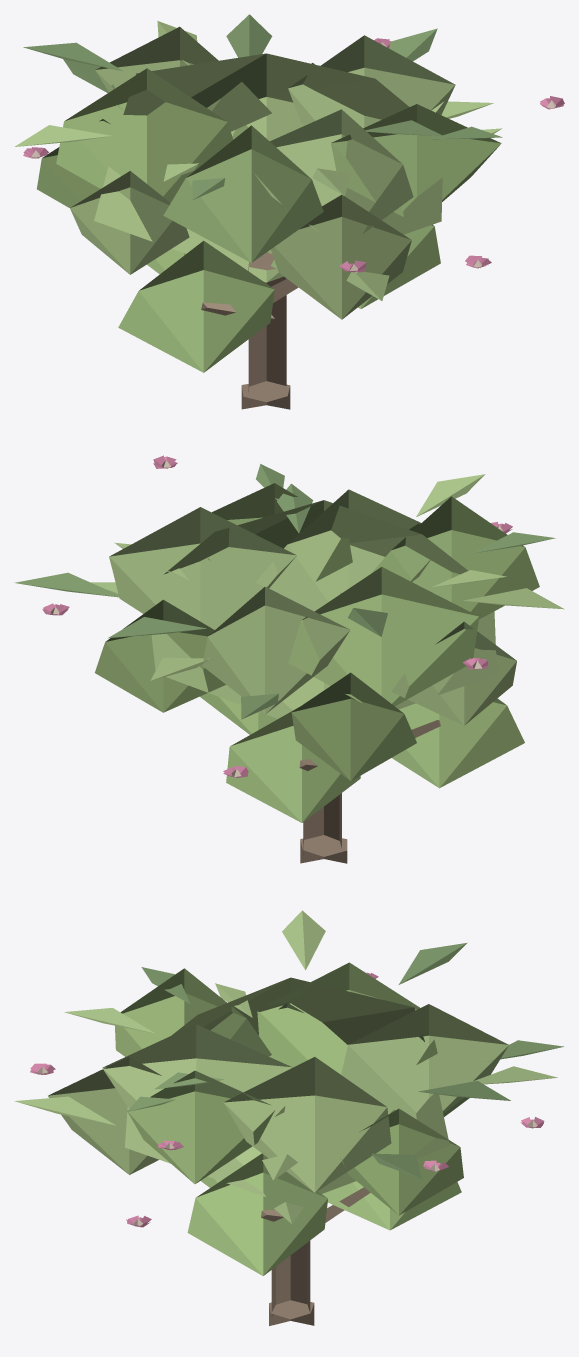
Rendered from shu.chuilui__bloom.glb.
3 renders of one model, top to bottom at view 1: azimuth 30°, elevation 25°; view 2: azimuth 150°, elevation 25°; view 3: azimuth 270°, elevation 25°, orthographic. The views are drawn at different scales.
Visible parts, largest first — view 1: shu.chuilui__bloom; view 2: shu.chuilui__bloom; view 3: shu.chuilui__bloom.
Boxes of the visible parts, bbox=[...] form: shu.chuilui__bloom: bbox=[14, 14, 564, 409]; shu.chuilui__bloom: bbox=[14, 455, 564, 863]; shu.chuilui__bloom: bbox=[14, 910, 563, 1325].
Bounding box in the file's own units: 15.32 × 10.49 × 15.84.
